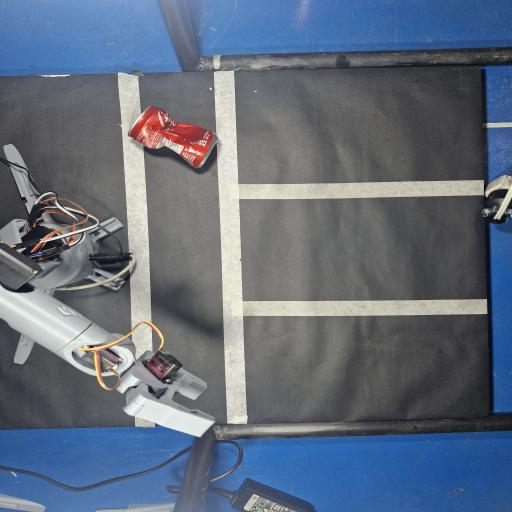lata_defectuoso: (128, 106, 216, 168)
